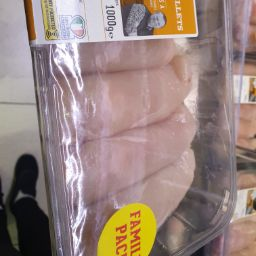Chicken breast: (34, 48, 202, 159), (66, 123, 205, 228), (64, 63, 205, 135), (80, 133, 202, 205)
